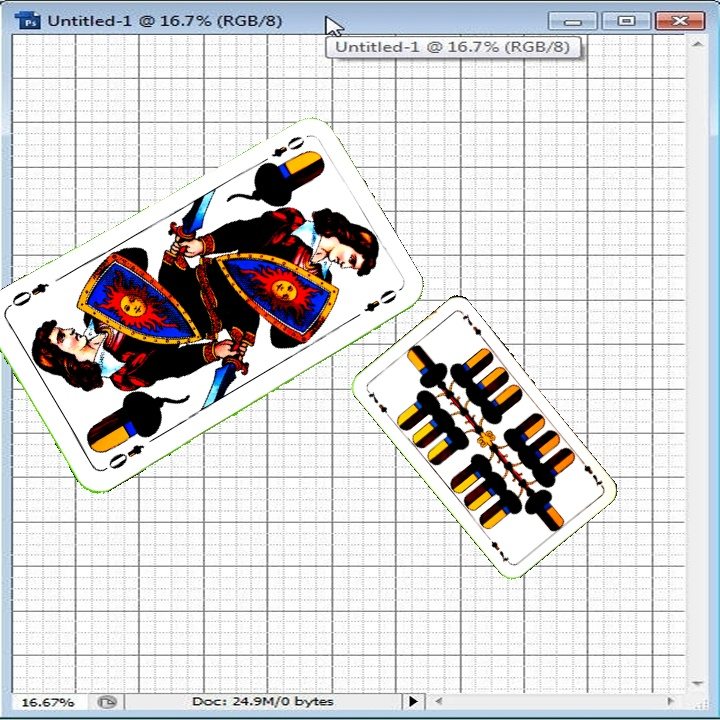E7: (575, 454, 606, 489), (363, 385, 393, 420)
EO: (255, 131, 307, 169), (99, 440, 148, 474)
